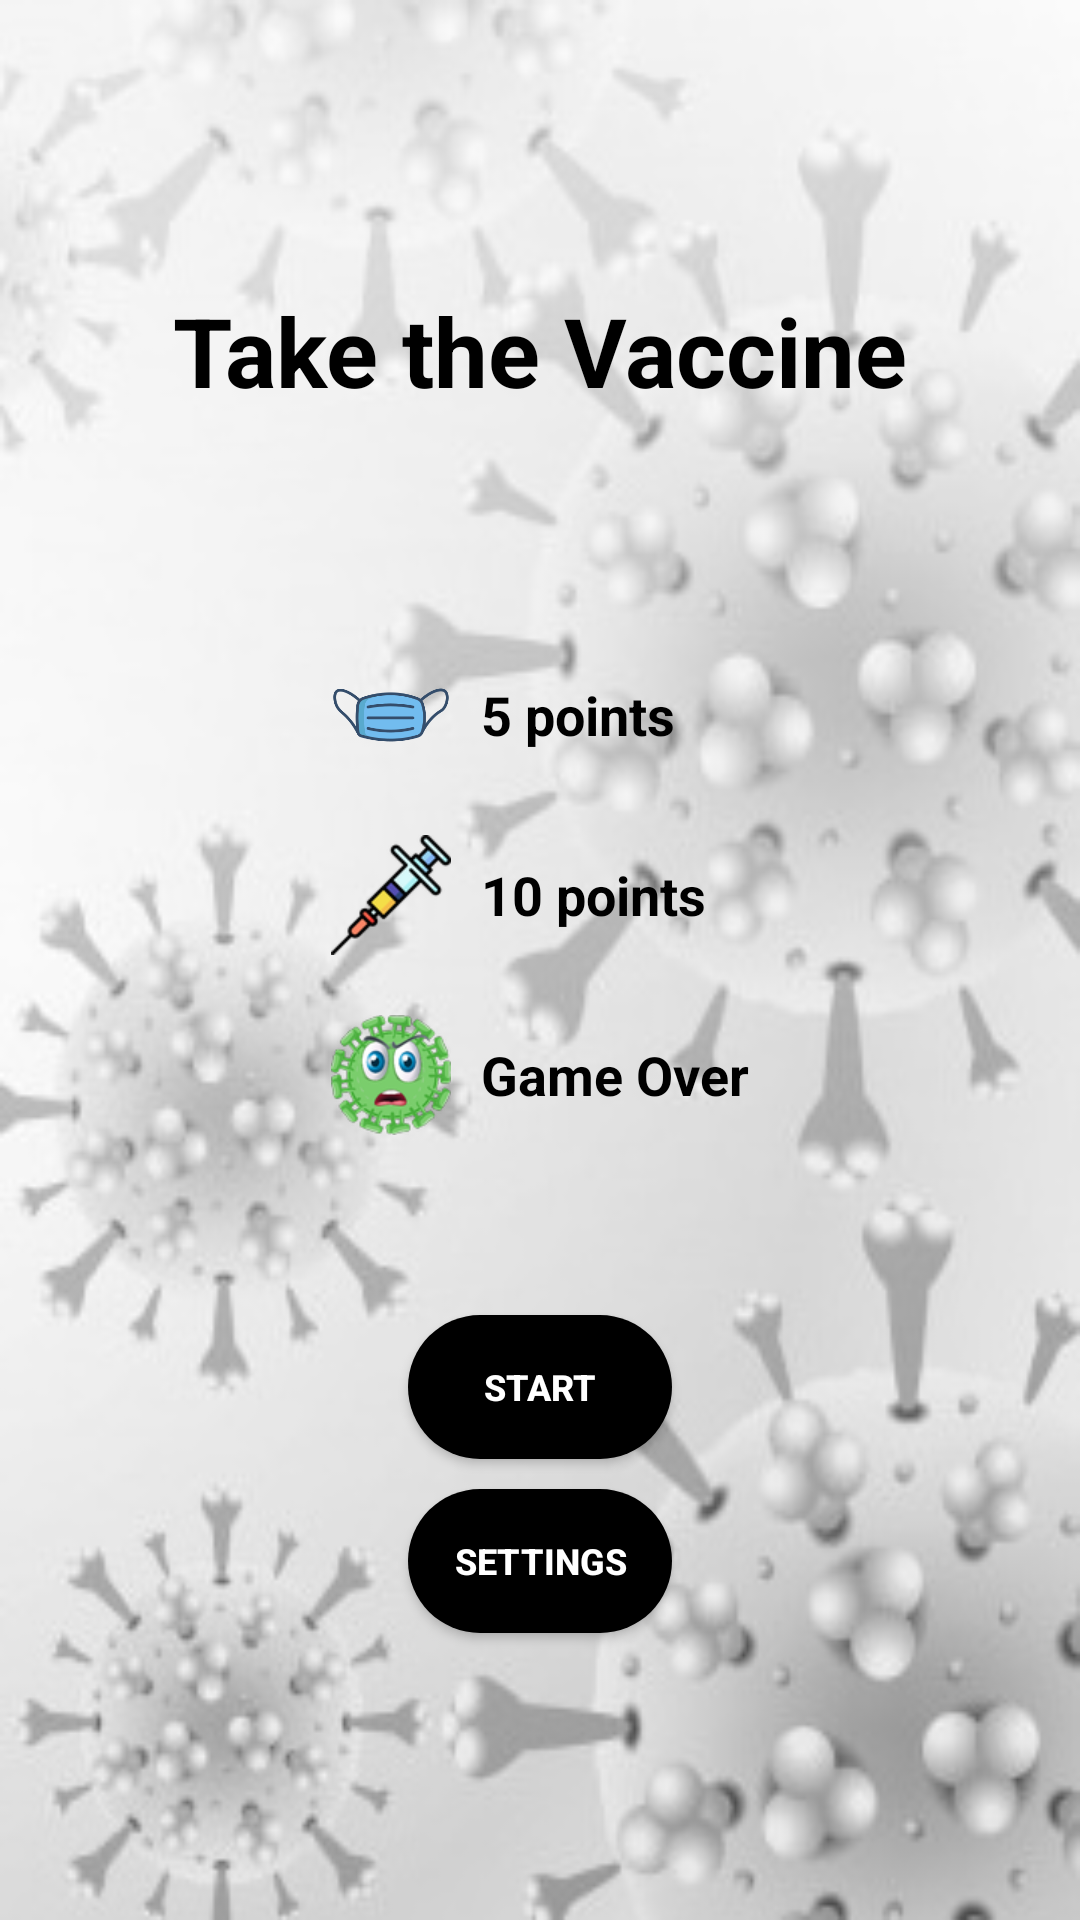

Screen size 1080 × 1920. Icon name, then its center in pixels as point (x, y):
VACCINE: point (391, 895)
VIRUS: point (391, 1075)
